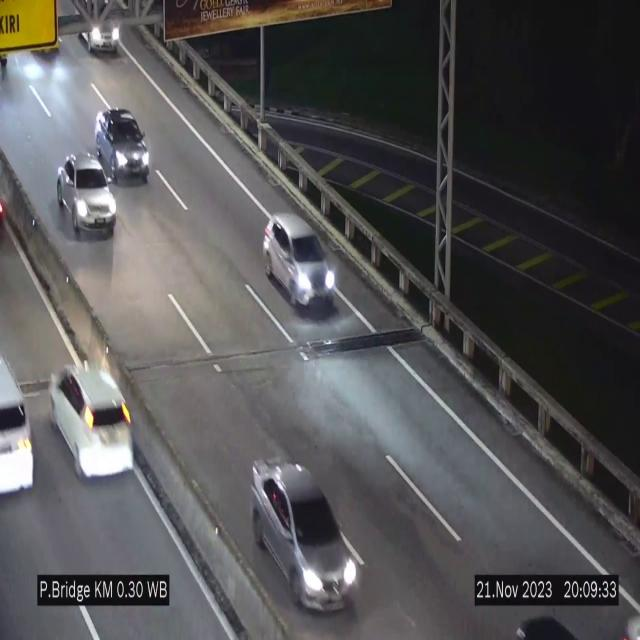Car: (250, 458, 358, 610), (46, 347, 134, 485), (0, 318, 43, 510), (263, 213, 338, 307), (57, 153, 116, 239), (95, 108, 151, 184), (75, 9, 129, 59)
